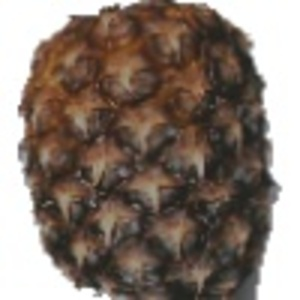abacaxi: (14, 3, 279, 292)
